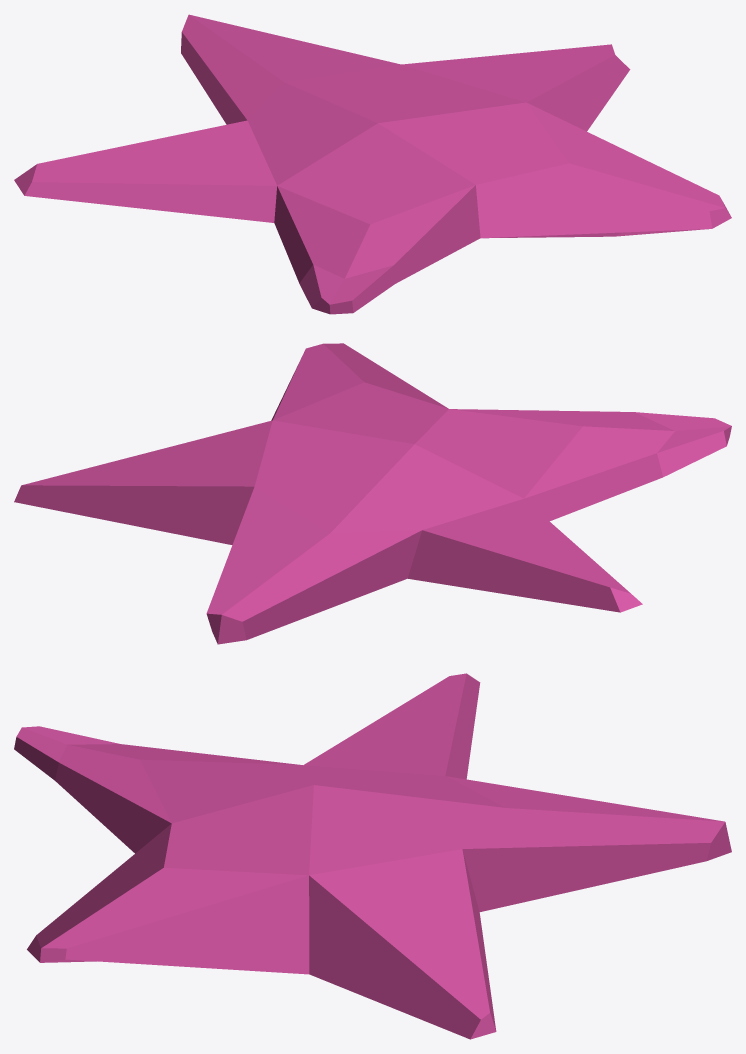
The model's file is StarFish.fbx.
The picture shows the model from 3 angles, top to bottom: view 1: azimuth 30°, elevation 25°; view 2: azimuth 150°, elevation 25°; view 3: azimuth 270°, elevation 25°; orthographic projection. The views are drawn at different scales.
Visible parts, largest first — view 1: Cube.027; view 2: Cube.027; view 3: Cube.027.
Part boxes in pixels (x1,y1,x2,y2): Cube.027: [14, 14, 731, 314]; Cube.027: [14, 343, 731, 644]; Cube.027: [14, 673, 731, 1039].
Size of the model in its own units: 135 by 18.67 by 127.
